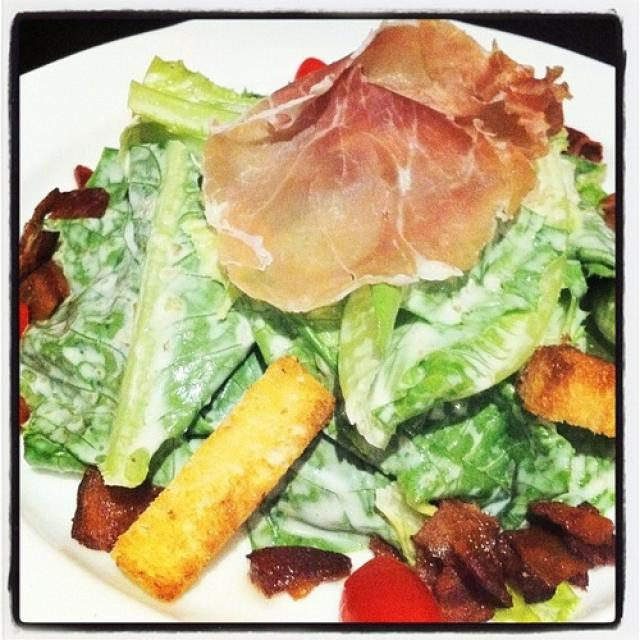蔬菜料理: (26, 23, 608, 611)
